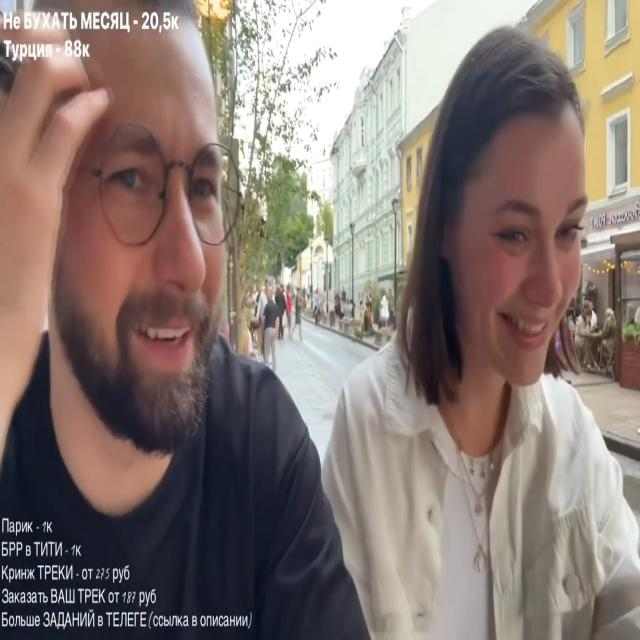Person: (0, 11, 350, 639), (307, 28, 639, 640), (257, 283, 283, 367), (573, 298, 603, 370), (312, 290, 322, 322)
